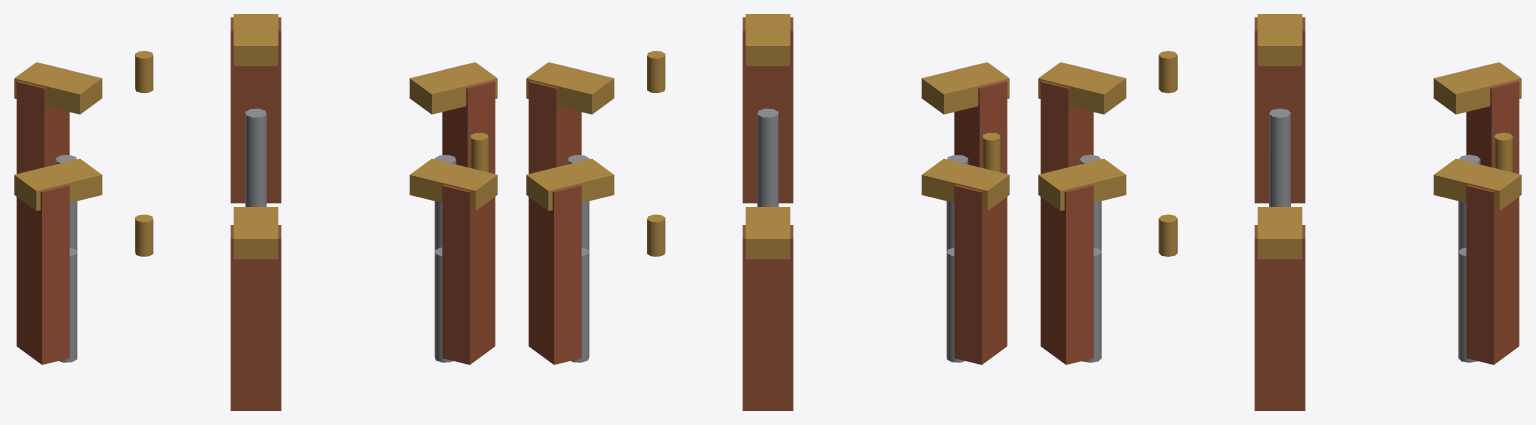
The model's file is collar_latch.obj.
3 views of the same model, side by side, from view 1: azimuth 30°, elevation 25°; view 2: azimuth 150°, elevation 25°; view 3: azimuth 270°, elevation 25° (orthographic).
Parts seen in each view (by area): view 1: collar_latch; view 2: collar_latch; view 3: collar_latch.
Part boxes in pixels (x1=…): collar_latch: x1=14, y1=14, x2=497, y2=410; collar_latch: x1=526, y1=14, x2=1009, y2=410; collar_latch: x1=1038, y1=14, x2=1521, y2=410.
Bounding box in the file's own units: 1.68 × 0.645 × 1.52.
